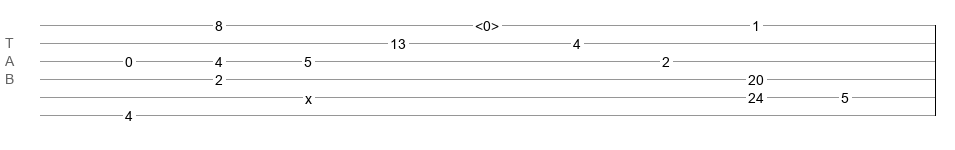0: (125, 54, 133, 64)
1: (752, 18, 760, 28)
13: (390, 36, 406, 46)
2: (215, 72, 223, 82), (662, 54, 670, 64)
20: (748, 72, 764, 82)
24: (748, 90, 764, 100)
4: (125, 108, 133, 118), (215, 54, 223, 64), (573, 36, 581, 46)
5: (304, 54, 312, 64), (841, 90, 849, 100)
8: (215, 18, 223, 28)
harmonic: (475, 18, 499, 28)
x: (305, 91, 312, 99)
